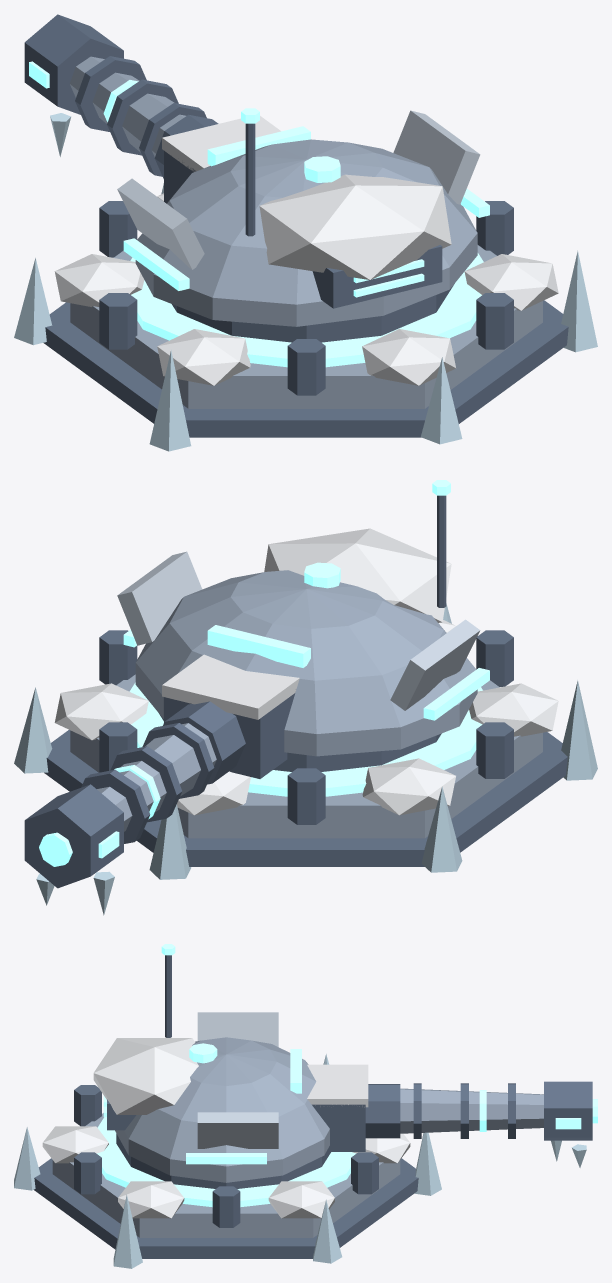
File: turret_lvl2.fbx
The picture shows the model from 3 angles, top to bottom: view 1: azimuth 30°, elevation 25°; view 2: azimuth 150°, elevation 25°; view 3: azimuth 270°, elevation 25°; orthographic projection. The views are drawn at different scales.
Visible parts, largest first — view 1: Dome_05, BaseSkirt_02, SnowBlanket_37, Base_01, Neon_BaseRing_03, MuzzleBrake_15, Pivot_04, ArmorPlate_28, SnowMound_42, SnowMound_41, SnowMound_43, ArmorPlate_27 (+23 smaller); view 2: Dome_05, BaseSkirt_02, Base_01, SnowBlanket_37, MuzzleBrake_15, SnowCap_08, Neon_BaseRing_03, ArmorPlate_28, SnowMound_40, SnowMound_38, ArmorPlate_27, SnowMound_41 (+22 smaller); view 3: Dome_05, BaseSkirt_02, Base_01, SnowBlanket_37, BarrelTube_10, Neon_BaseRing_03, ArmorPlate_28, MuzzleBrake_15, SnowCap_08, ArmorPlate_27, SnowMound_38, SnowMound_43 (+21 smaller).
Part boxes in pixels (<box>): Dome_05: <box>135,139,477,326</box>; BaseSkirt_02: <box>43,300,568,437</box>; SnowBlanket_37: <box>259,174,451,279</box>; Base_01: <box>70,245,542,408</box>; Neon_BaseRing_03: <box>130,253,483,367</box>; MuzzleBrake_15: <box>24,14,123,114</box>; Pivot_04: <box>172,283,454,342</box>; ArmorPlate_28: <box>393,110,480,204</box>; SnowMound_42: <box>362,329,455,385</box>; SnowMound_41: <box>157,329,250,385</box>; SnowMound_43: <box>464,254,558,310</box>; ArmorPlate_27: <box>117,178,204,269</box>; Dome_05: <box>135,570,477,756</box>; BaseSkirt_02: <box>44,730,567,866</box>; Base_01: <box>70,674,542,838</box>; SnowBlanket_37: <box>264,528,451,622</box>; MuzzleBrake_15: <box>24,784,123,888</box>; SnowCap_08: <box>162,654,299,719</box>; Neon_BaseRing_03: <box>129,682,482,796</box>; ArmorPlate_28: <box>117,551,202,645</box>; SnowMound_40: <box>362,758,455,815</box>; SnowMound_38: <box>54,683,148,740</box>; ArmorPlate_27: <box>390,619,480,710</box>; SnowMound_41: <box>469,683,558,736</box>; Dome_05: <box>115,1037,329,1182</box>; BaseSkirt_02: <box>34,1158,418,1258</box>; Base_01: <box>52,1113,400,1237</box>; SnowBlanket_37: <box>93,1038,198,1114</box>; BarrelTube_10: <box>400,1088,543,1133</box>; Neon_BaseRing_03: <box>96,1117,356,1207</box>; ArmorPlate_28: <box>197,1112,278,1148</box>; MuzzleBrake_15: <box>544,1081,592,1140</box>; SnowCap_08: <box>307,1064,368,1107</box>; ArmorPlate_27: <box>197,1012,278,1046</box>; SnowMound_38: <box>268,1181,334,1218</box>; SnowMound_43: <box>118,1181,184,1218</box>.
Size of the model in its own units: 325 by 198 by 504.
